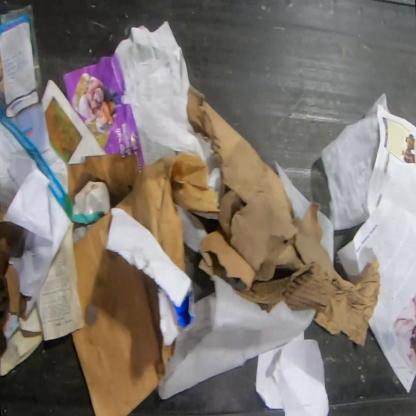cardboard: (186, 88, 334, 313), (69, 210, 177, 415), (116, 152, 220, 274), (313, 253, 380, 348), (0, 203, 29, 361), (68, 154, 138, 208)
